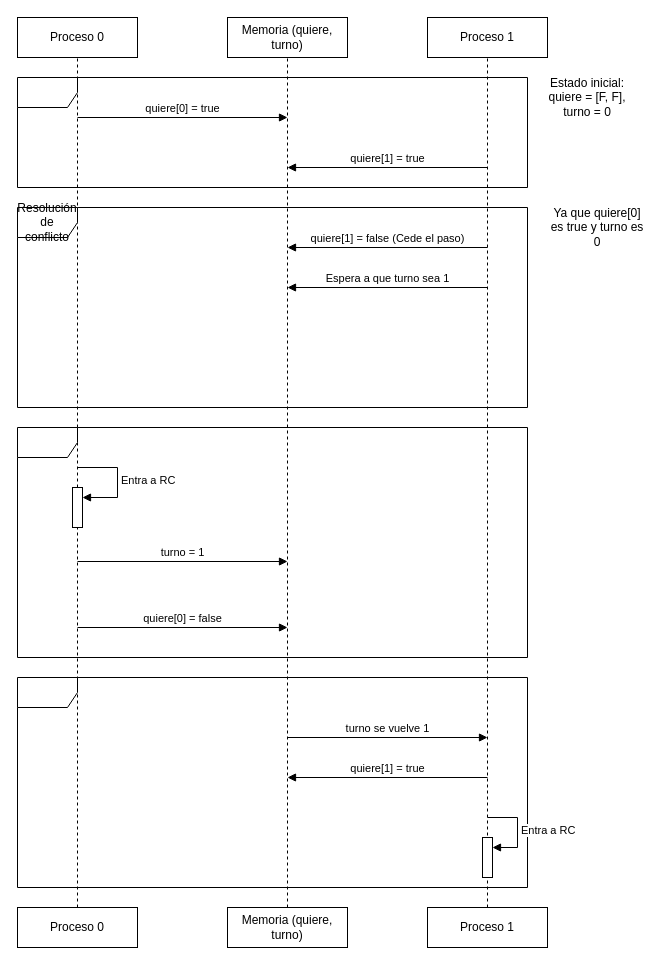
The diagram is 665 pixels wide and 965 high, and some of its shapes have lost their labels. Each missing label, with the centre of its shape:
"Entrada" goes at point 272,132.
"Región crítica" goes at point 272,542.
"Turno P1" goes at point 272,782.
